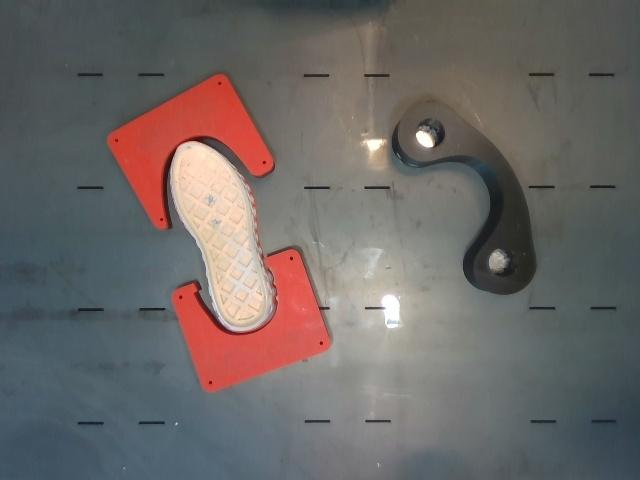shoes: (172, 142, 270, 329)
